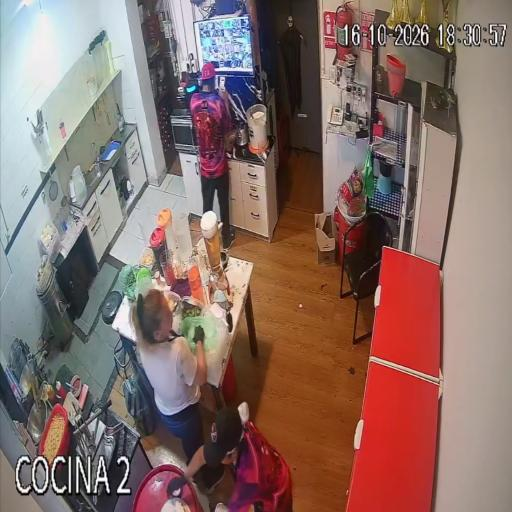Envase Ketchup: (56, 381, 65, 400)
Envase Llajua: (43, 383, 54, 402)
Jarra1: (150, 227, 167, 273)
Jarra2: (156, 209, 172, 247)
Jarra3: (174, 212, 192, 258)
Jarra4: (135, 274, 152, 295)
Microondas: (170, 109, 197, 153)
Persona1: (190, 63, 236, 249)
Persona2: (168, 402, 292, 512)
Persona3: (132, 290, 206, 463)
Taper: (40, 223, 61, 264)
Taper2: (181, 304, 230, 381)
Taper3: (166, 297, 203, 369)
Taper4: (164, 292, 179, 314)
